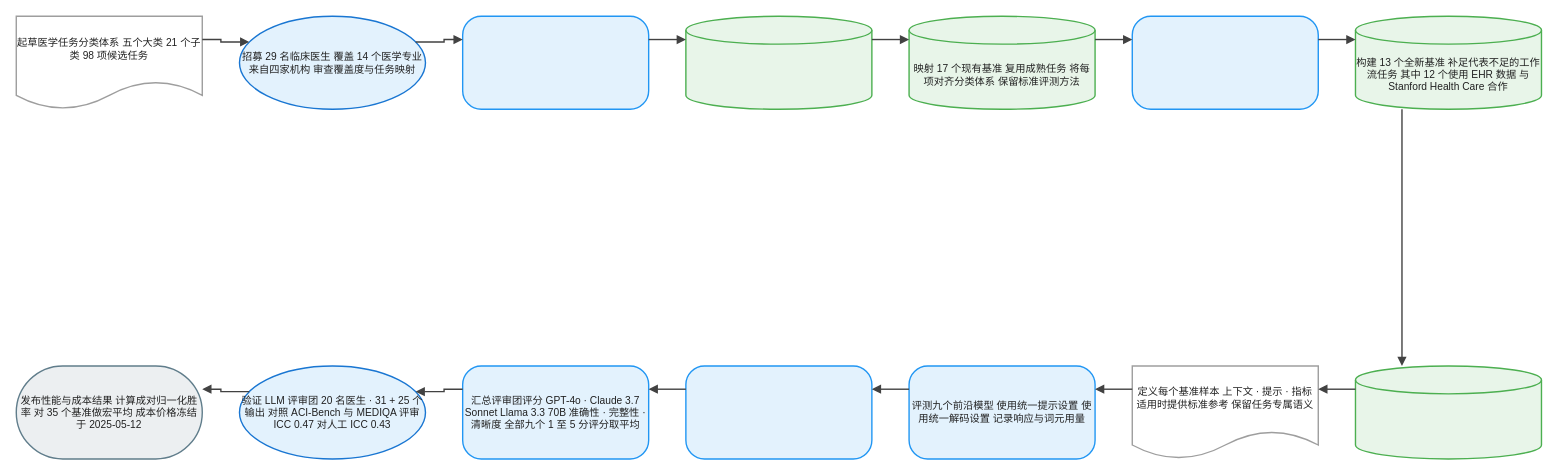
Some shapes in this 1559 by 476 pixel diagram are drawn without their labels. The box of each missing label's shape, as (x1, y1, x2, y2) in pixels:
定稿任务分类体系 五个大类 22 个子类 121 项医学任务: (685, 15, 872, 110)
形成 35 基准套件 覆盖全部 22 个子类 13 个开放式 · 22 个封闭式 14 公开 · 7 受限 · 14 私有: (1354, 365, 1542, 459)
按输出类型评分 封闭题用精确匹配或 Micro-F1 开放题用三模型 LLM 评审团 评审提示不使用思维链: (685, 365, 872, 459)
重构五个数据集合 定义标准提示词 定义标准指标 将数据集合转为基准: (1131, 15, 1319, 110)
验证并完善分类体系 任务映射一致率 96.7% 完整性评分 4.21 / 5 吸收 107 条意见: (462, 15, 649, 110)
